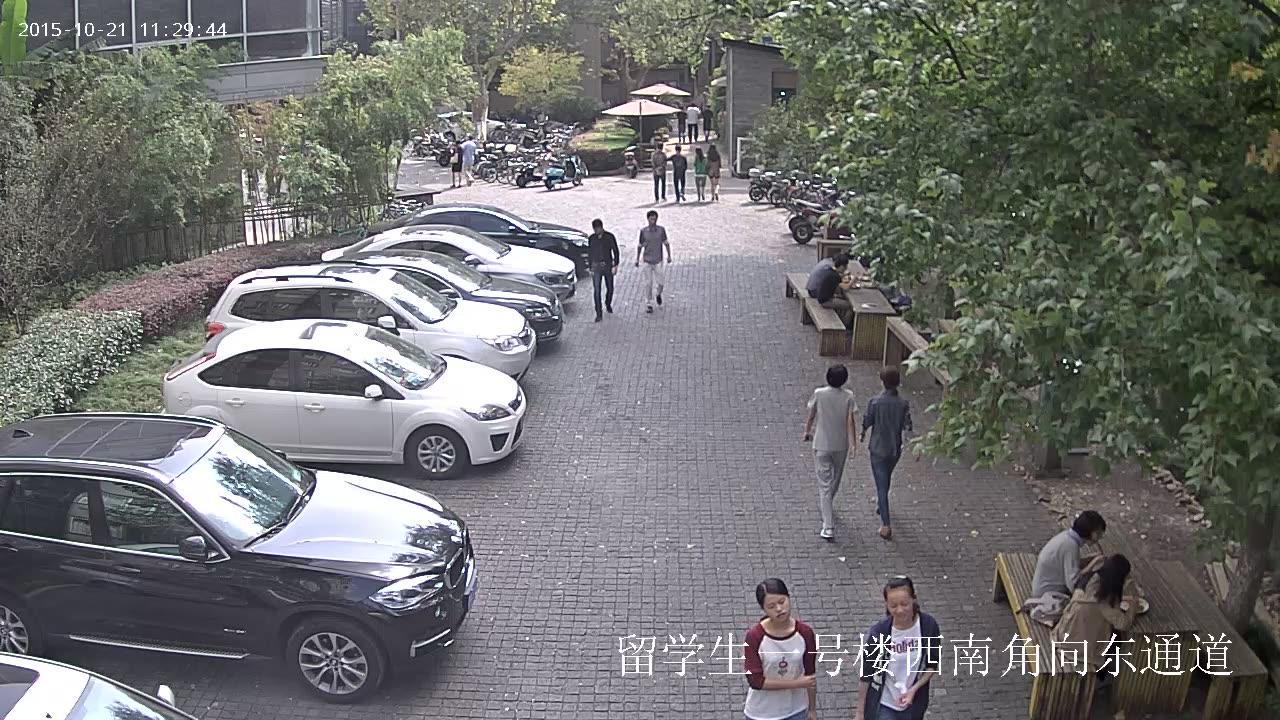person: (856, 574, 941, 720), (742, 578, 818, 720), (1048, 554, 1140, 669), (802, 363, 857, 538), (859, 364, 911, 540), (1030, 510, 1105, 610), (634, 210, 670, 312), (587, 219, 618, 322), (814, 255, 853, 335), (807, 256, 848, 299), (665, 145, 687, 203), (706, 144, 721, 201), (652, 144, 666, 202), (693, 147, 708, 201), (461, 136, 476, 185), (448, 140, 463, 188), (686, 103, 699, 143), (702, 105, 712, 142), (677, 106, 686, 143)
